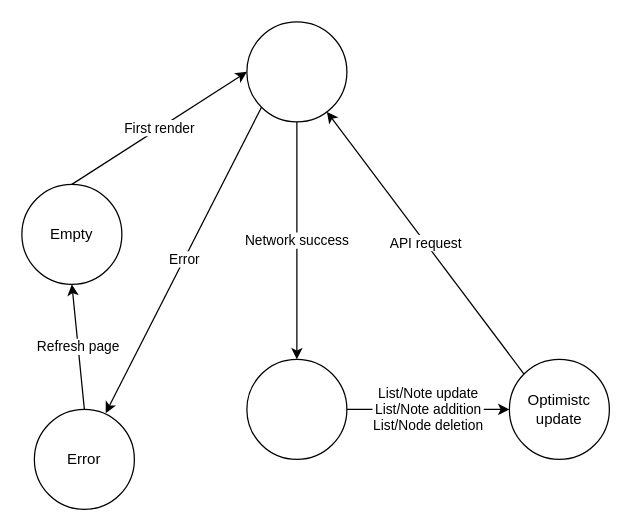
Image size: 631x531. Some labels were removed from this diagram. Here are the shapes that lost their labels. From the top down, the centre of each, then its label:
At [296,71]: "Loading".
At [296,408]: "Lists shown".
